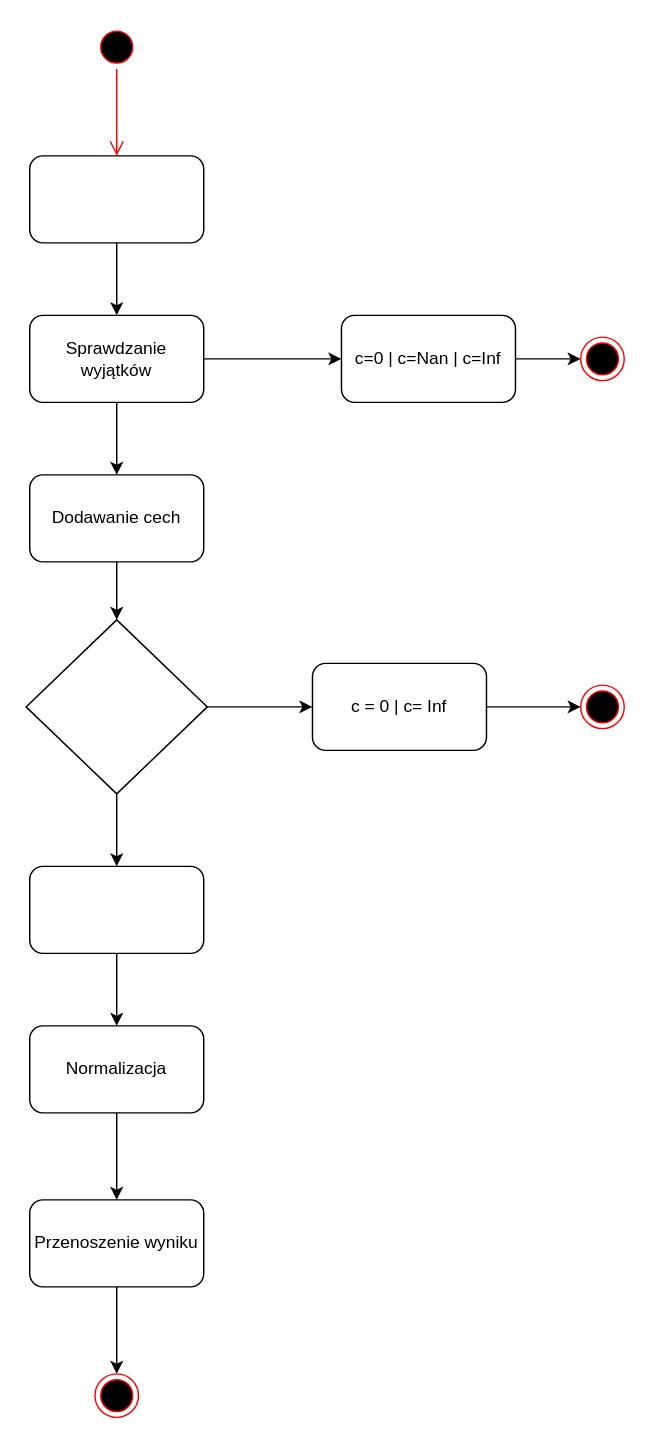
Some shapes in this 650 by 1443 pixel diagram are drawn without their labels. Each missing label, with the box of its shape:
Mnożenie mantys: (28, 865, 204, 953)
Overflow/Underflow: (25, 618, 207, 794)
Wyciąganie znaku, cechy i mantysy: (28, 154, 204, 243)
